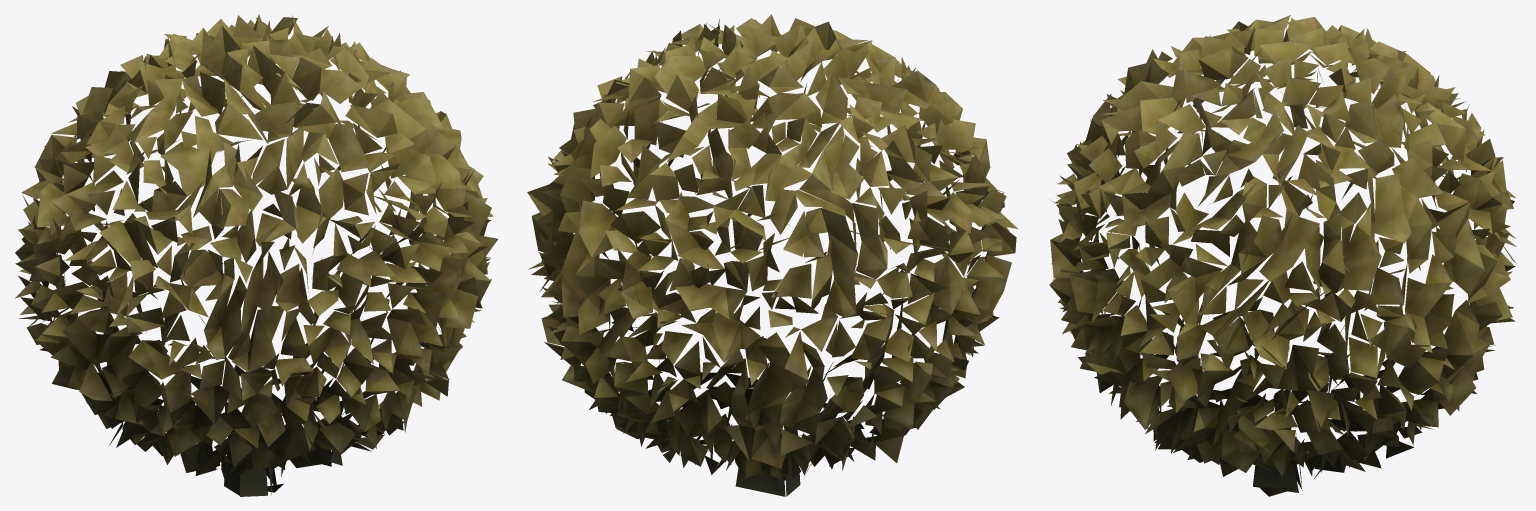
Rendered from topiary.glb.
3 renders of one model, left to right at view 1: azimuth 30°, elevation 25°; view 2: azimuth 150°, elevation 25°; view 3: azimuth 270°, elevation 25°, orthographic.
Parts seen in each view (by area): view 1: geometry_0; view 2: geometry_0; view 3: geometry_0.
Part boxes in pixels (<box>): geometry_0: <box>15,14,497,496</box>; geometry_0: <box>527,14,1018,496</box>; geometry_0: <box>1049,15,1516,496</box>.
Size of the model in its own units: 1.02 by 1.02 by 0.9692.
1 material, 1 textured.
